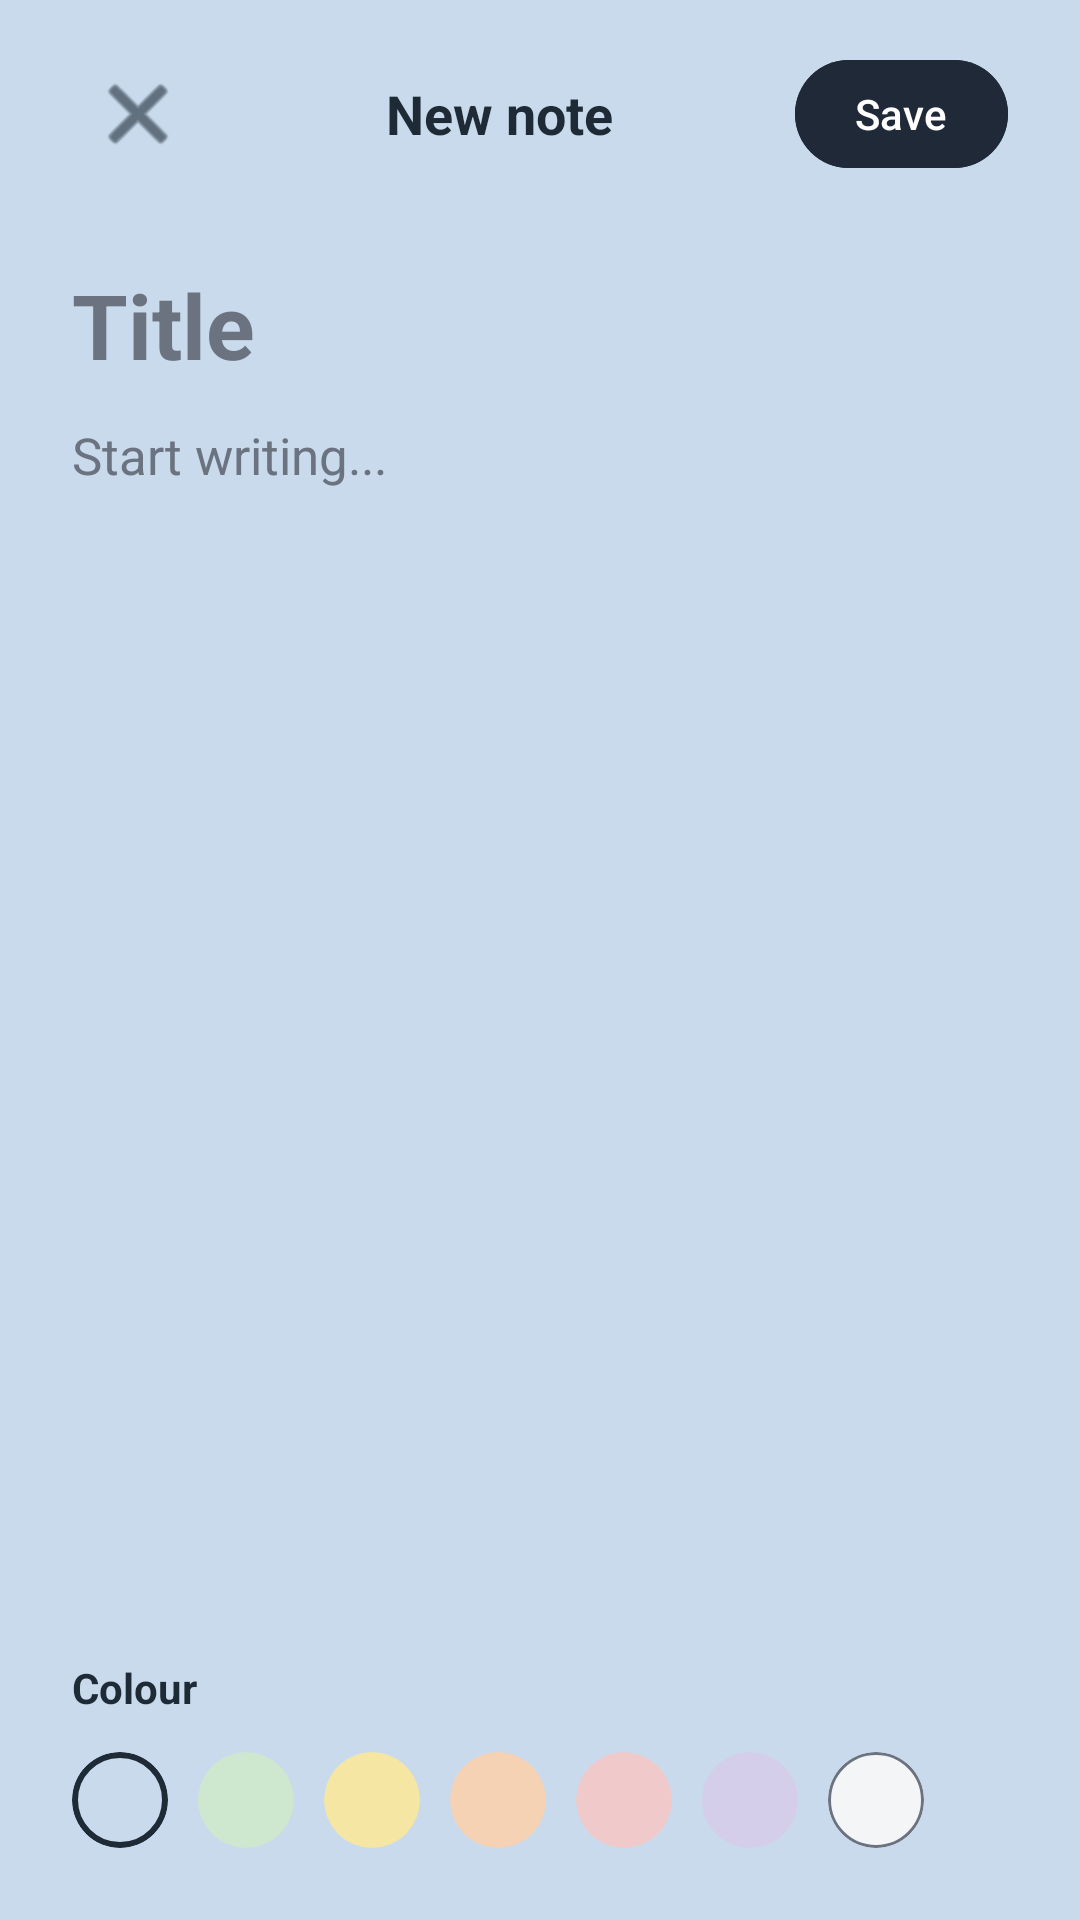

Named icons in this screenshot (1080w x 1920h) and their bounding boxes, (x1, y1, x2, y2):
Close: (108, 84, 168, 144)
